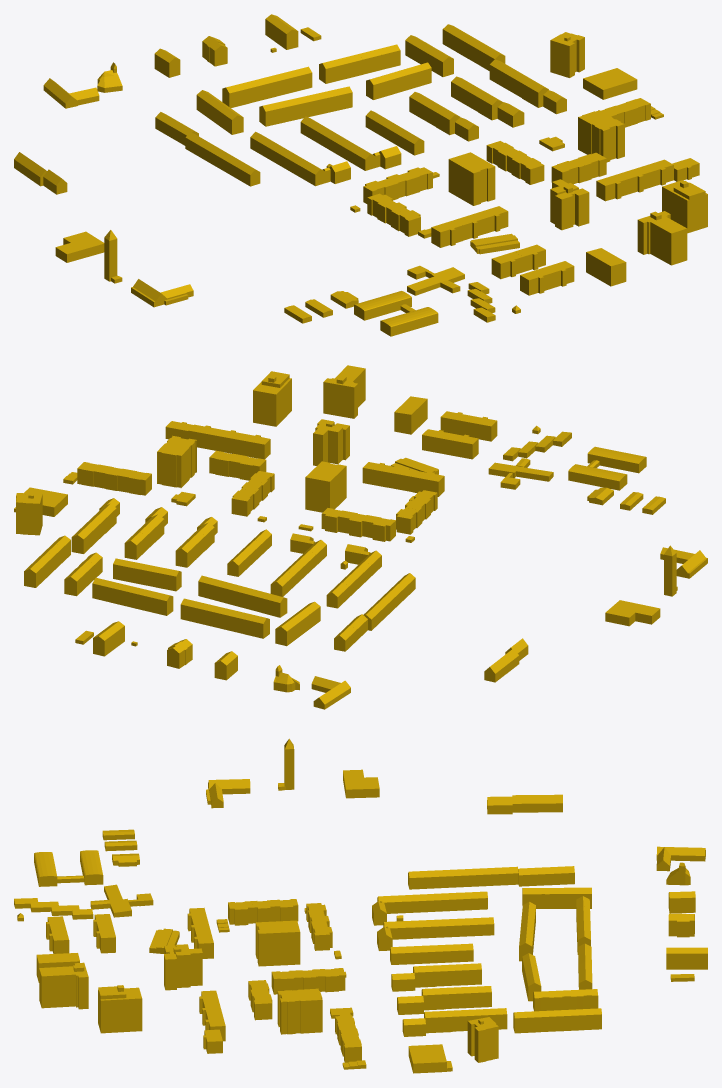
The model's file is refurbishment.glb.
The picture shows the model from 3 angles, top to bottom: view 1: azimuth 30°, elevation 25°; view 2: azimuth 150°, elevation 25°; view 3: azimuth 270°, elevation 25°; orthographic projection.
Parts seen in each view (by area): view 1: world; view 2: world; view 3: world.
Part boxes in pixels (bbox=[...]): world: bbox=[14, 14, 707, 336]; world: bbox=[14, 365, 707, 709]; world: bbox=[14, 738, 707, 1073].
Size of the model in its own units: 507 by 44.12 by 504.
